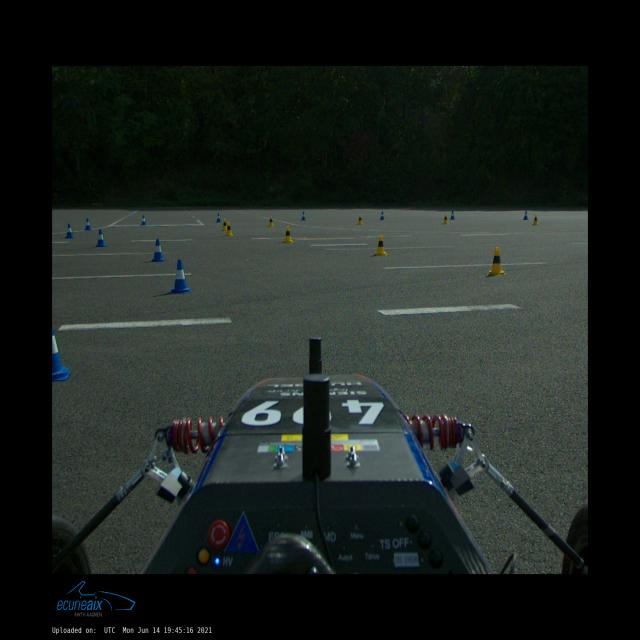blue_cone: (52, 327, 70, 381), (168, 259, 193, 294), (150, 239, 166, 262), (95, 229, 107, 247), (65, 224, 74, 238), (84, 218, 92, 230), (300, 211, 306, 221), (216, 212, 222, 222), (141, 215, 147, 225), (523, 211, 529, 220), (450, 210, 455, 220), (380, 211, 384, 220)
yellow_cone: (486, 247, 506, 276), (374, 234, 388, 256), (283, 226, 293, 243), (224, 222, 233, 236), (268, 215, 275, 227), (221, 218, 227, 231), (357, 215, 364, 225), (532, 215, 539, 225), (443, 214, 449, 224)
